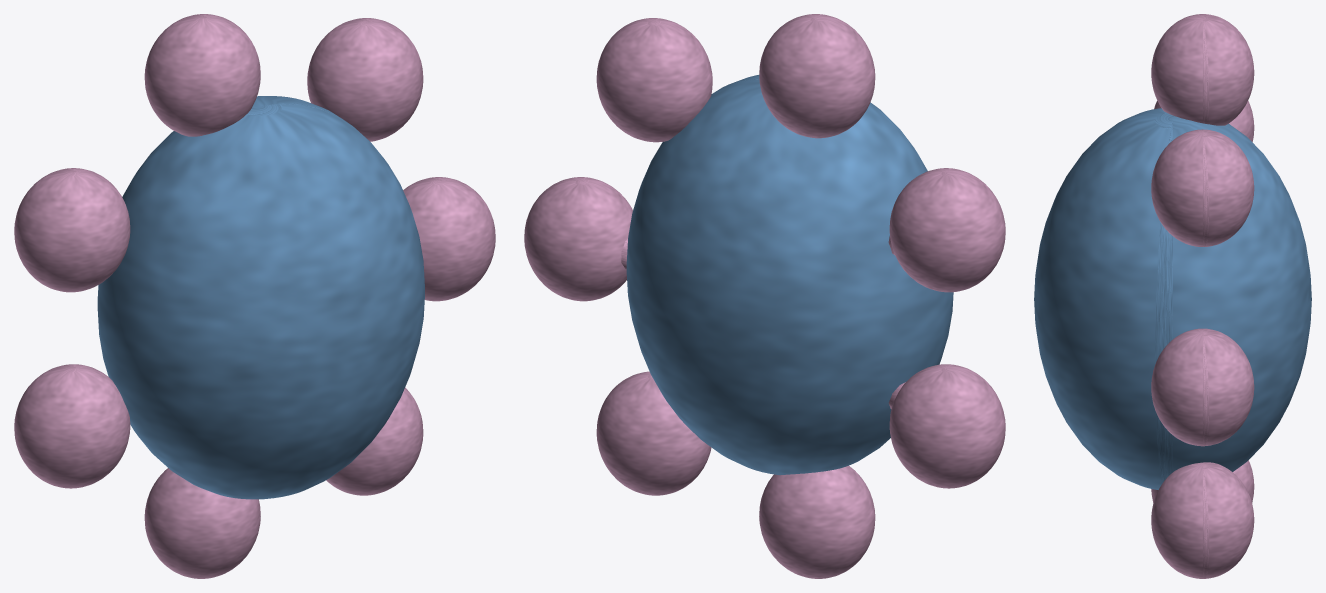
The model's file is complete.glb.
The picture shows the model from 3 angles, left to right: view 1: azimuth 30°, elevation 25°; view 2: azimuth 150°, elevation 25°; view 3: azimuth 270°, elevation 25°; orthographic projection. The views are drawn at different scales.
Visible parts, largest first — view 1: parede_mesh, broto_mesh; view 2: parede_mesh, broto_mesh; view 3: parede_mesh, broto_mesh.
Part boxes in pixels (x1=…): parede_mesh: x1=97, y1=96, x2=424, y2=499; broto_mesh: x1=14, y1=14, x2=495, y2=578; parede_mesh: x1=626, y1=75, x2=953, y2=475; broto_mesh: x1=524, y1=14, x2=1005, y2=578; parede_mesh: x1=1034, y1=108, x2=1311, y2=489; broto_mesh: x1=1151, y1=14, x2=1254, y2=578.
Size of the model in its own units: 2.56 by 2.9 by 1.4.
7 materials, 7 textured.
